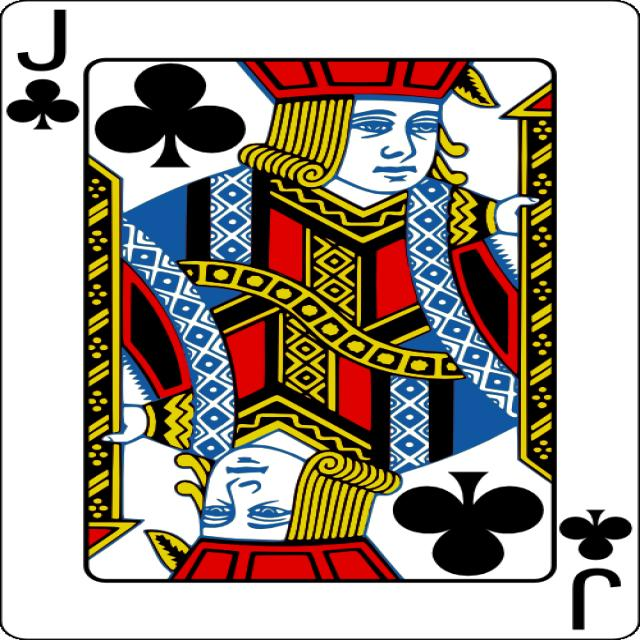Club: (391, 471, 544, 576), (95, 64, 248, 168), (6, 79, 80, 130), (560, 510, 632, 560)
Jack: (15, 10, 72, 72), (570, 568, 623, 630)
